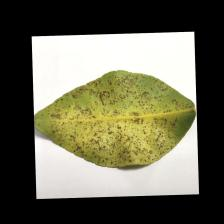canker: (52, 84, 168, 156)
